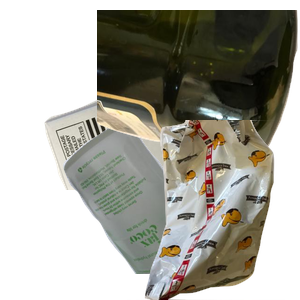glass: (60, 120, 300, 300)
paper: (42, 68, 275, 248)
plastic: (97, 10, 300, 165)
trash: (127, 120, 300, 300)
